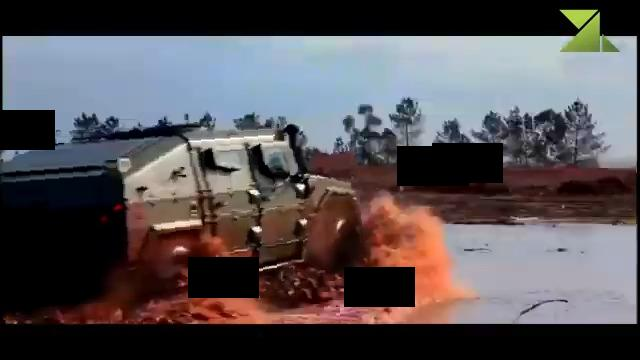MIL_HMMWV: (0, 117, 362, 304)
